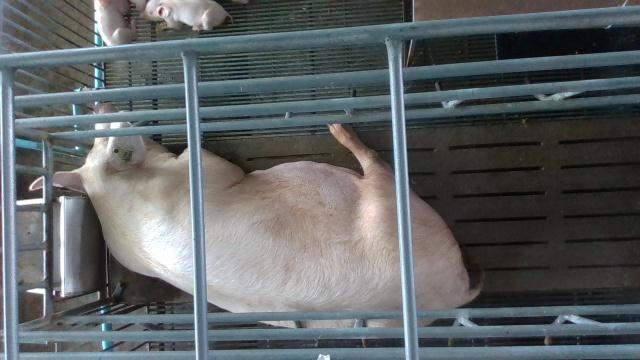piglet: (139, 0, 233, 32), (94, 0, 138, 45)
sow-sit: (31, 102, 485, 329)
